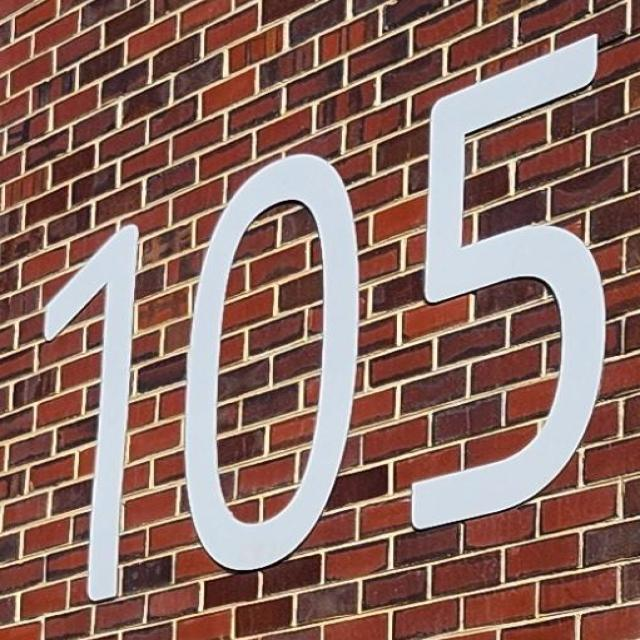character: (406, 28, 612, 531), (180, 150, 368, 577), (41, 222, 146, 603)
